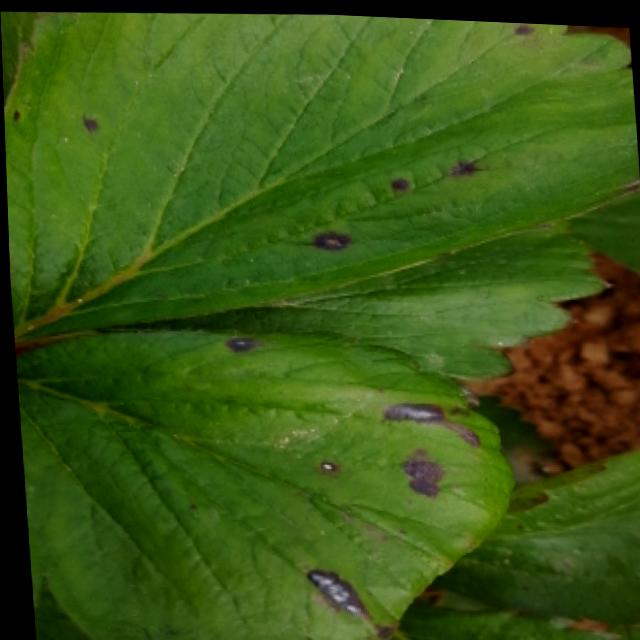Leaf Spot: (3, 11, 640, 377), (11, 329, 508, 640)
